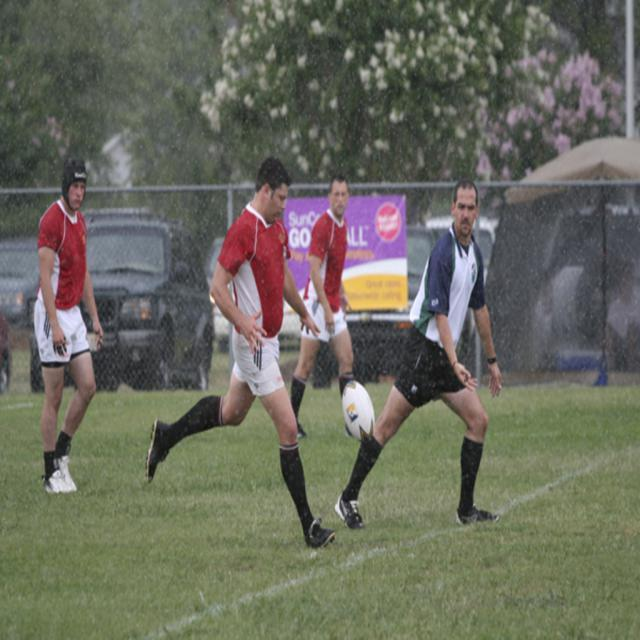football: (327, 356, 390, 452)
